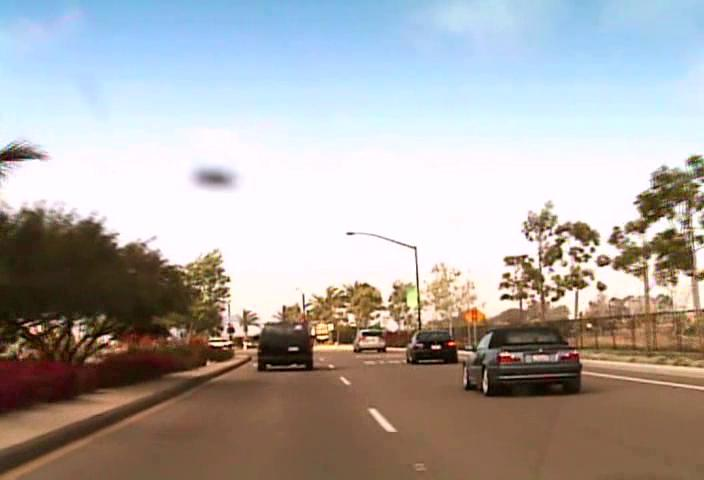signalAhead: (462, 305, 485, 327)
